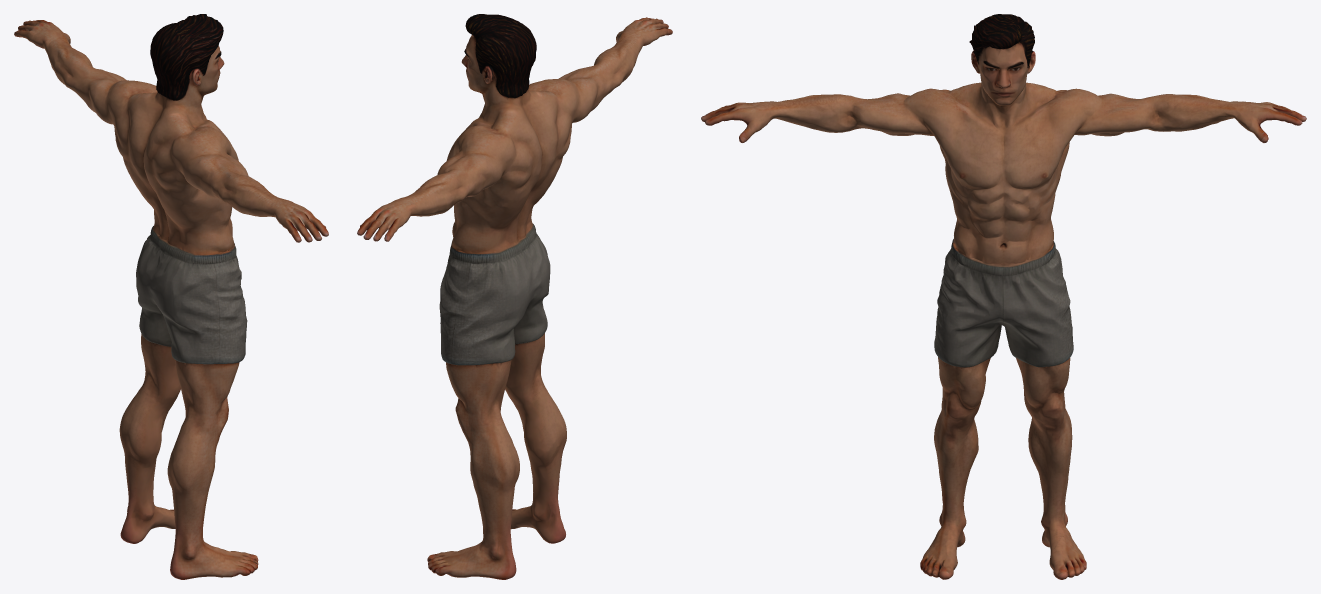
The picture shows the model from 3 angles, left to right: view 1: azimuth 30°, elevation 25°; view 2: azimuth 150°, elevation 25°; view 3: azimuth 270°, elevation 25°; orthographic projection. The views are drawn at different scales.
Parts seen in each view (by area): view 1: tripo_node_aadd7537-9370-49a2-9612-18757ae24b87; view 2: tripo_node_aadd7537-9370-49a2-9612-18757ae24b87; view 3: tripo_node_aadd7537-9370-49a2-9612-18757ae24b87.
Part boxes in pixels (x1,y1,x2,y2): tripo_node_aadd7537-9370-49a2-9612-18757ae24b87: [14, 14, 328, 579]; tripo_node_aadd7537-9370-49a2-9612-18757ae24b87: [357, 14, 672, 579]; tripo_node_aadd7537-9370-49a2-9612-18757ae24b87: [701, 14, 1306, 579].
Size of the model in its own units: 0.3357 by 1.85 by 1.86.
Materials: 1 (1 with a texture image).
